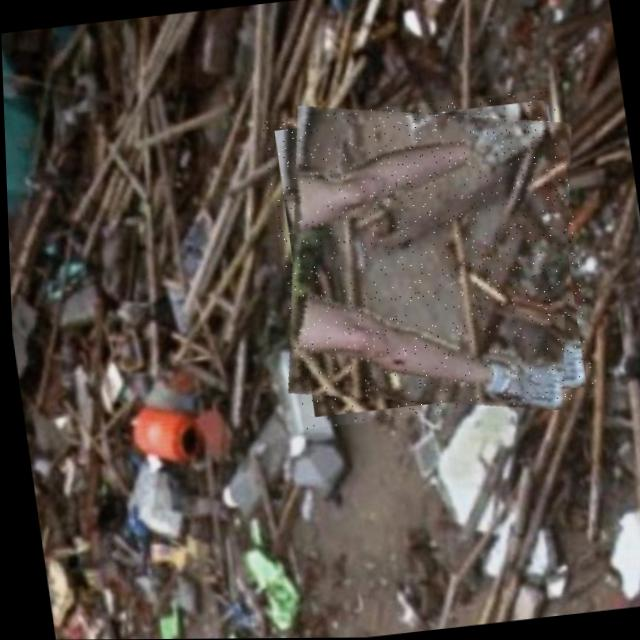Person in Rubble: (260, 87, 596, 428)
